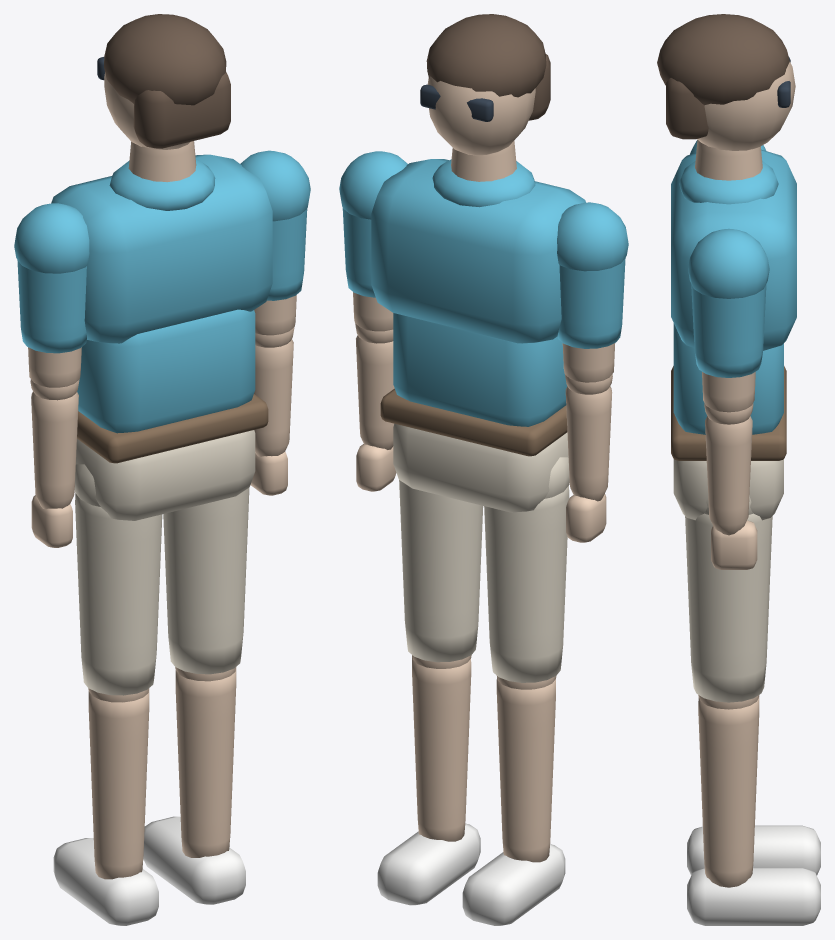
The model's file is Char_Humanoid_v2.fbx.
The picture shows the model from 3 angles, left to right: view 1: azimuth 30°, elevation 25°; view 2: azimuth 150°, elevation 25°; view 3: azimuth 270°, elevation 25°; orthographic projection. The views are drawn at different scales.
Parts seen in each view (by area): view 1: Torso_Chest, Torso_Lower, Thigh_L, Thigh_R, Pelvis_Mesh, Calf_L, Calf_R, Hair_Top, Belt_Mesh, Sleeve_L, Shoe_L, Shoe_R (+14 smaller); view 2: Torso_Chest, Torso_Lower, Thigh_L, Thigh_R, Pelvis_Mesh, Calf_L, Calf_R, Hair_Top, Shoe_L, Shoe_R, Belt_Mesh, Head_Mesh (+14 smaller); view 3: Thigh_R, Torso_Chest, Calf_R, Hair_Top, Shoe_R, Sleeve_R, Torso_Lower, LowerArm_R, Shoulder_R, Head_Mesh, Pelvis_Mesh, Shoe_L (+8 smaller).
Boxes of the visible parts, bbox=[...] form: Torso_Chest: bbox=[51, 154, 272, 343]; Torso_Lower: bbox=[77, 309, 255, 433]; Thigh_L: bbox=[75, 493, 162, 695]; Thigh_R: bbox=[163, 488, 249, 674]; Pelvis_Mesh: bbox=[76, 430, 255, 520]; Calf_L: bbox=[88, 689, 149, 879]; Calf_R: bbox=[175, 668, 236, 857]; Hair_Top: bbox=[104, 14, 226, 105]; Belt_Mesh: bbox=[77, 394, 268, 463]; Sleeve_L: bbox=[17, 260, 86, 353]; Shoe_L: bbox=[53, 838, 158, 925]; Shoe_R: bbox=[143, 816, 245, 904]; Torso_Chest: bbox=[371, 159, 585, 343]; Torso_Lower: bbox=[393, 313, 567, 426]; Thigh_L: bbox=[484, 485, 569, 682]; Thigh_R: bbox=[399, 480, 483, 662]; Pelvis_Mesh: bbox=[393, 423, 568, 512]; Calf_L: bbox=[496, 678, 555, 862]; Calf_R: bbox=[412, 656, 471, 841]; Hair_Top: bbox=[426, 14, 546, 97]; Shoe_L: bbox=[462, 844, 565, 925]; Shoe_R: bbox=[377, 823, 480, 905]; Belt_Mesh: bbox=[380, 388, 567, 456]; Head_Mesh: bbox=[427, 76, 535, 155]; Thigh_R: bbox=[685, 513, 772, 702]; Torso_Chest: bbox=[671, 149, 796, 350]; Calf_R: bbox=[698, 697, 759, 887]; Hair_Top: bbox=[657, 14, 789, 104]; Shoe_R: bbox=[687, 868, 820, 925]; Sleeve_R: bbox=[691, 284, 766, 377]; Torso_Lower: bbox=[673, 323, 783, 434]; LowerArm_R: bbox=[705, 416, 752, 535]; Shoulder_R: bbox=[688, 228, 769, 298]; Head_Mesh: bbox=[697, 62, 795, 150]; Pelvis_Mesh: bbox=[673, 459, 783, 520]; Shoe_L: bbox=[687, 825, 820, 875].
Size of the model in its own units: 0.626 by 1.85 by 0.3124.
